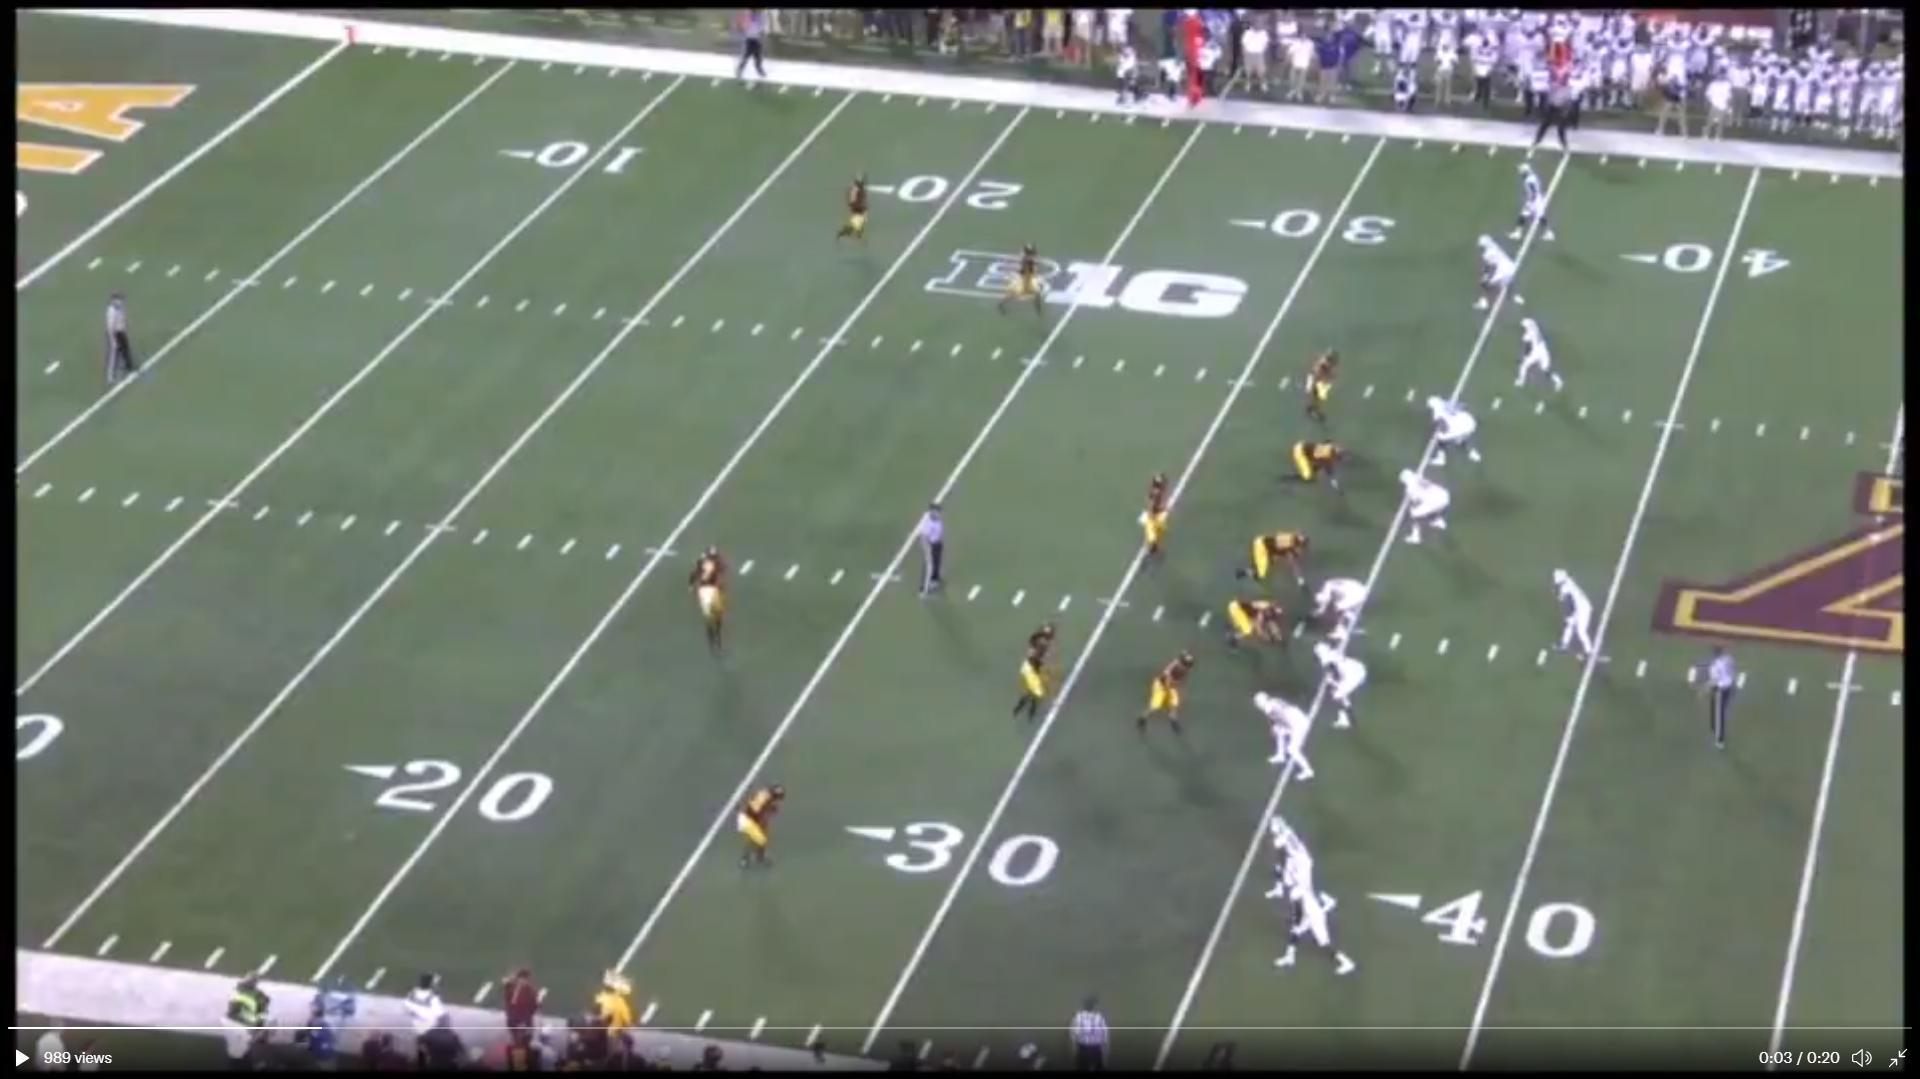defense: (692, 539, 745, 667), (731, 774, 789, 885), (1134, 646, 1199, 744), (1015, 620, 1063, 731), (1234, 525, 1312, 590), (1134, 470, 1180, 575), (1224, 595, 1290, 656), (1305, 348, 1345, 446), (1280, 441, 1345, 500), (1009, 241, 1052, 328), (833, 171, 877, 257)
oline: (1254, 690, 1320, 793), (1307, 640, 1367, 739), (1427, 390, 1487, 470), (1395, 464, 1451, 550), (1311, 576, 1369, 642)
qb: (1547, 563, 1609, 669)
ref: (1693, 642, 1743, 765), (909, 503, 957, 615), (100, 285, 146, 392), (1530, 69, 1576, 148), (728, 13, 775, 90)
skill: (1262, 856, 1357, 979), (1259, 814, 1336, 926), (1472, 232, 1531, 323), (1516, 311, 1572, 394), (1507, 158, 1559, 245)
